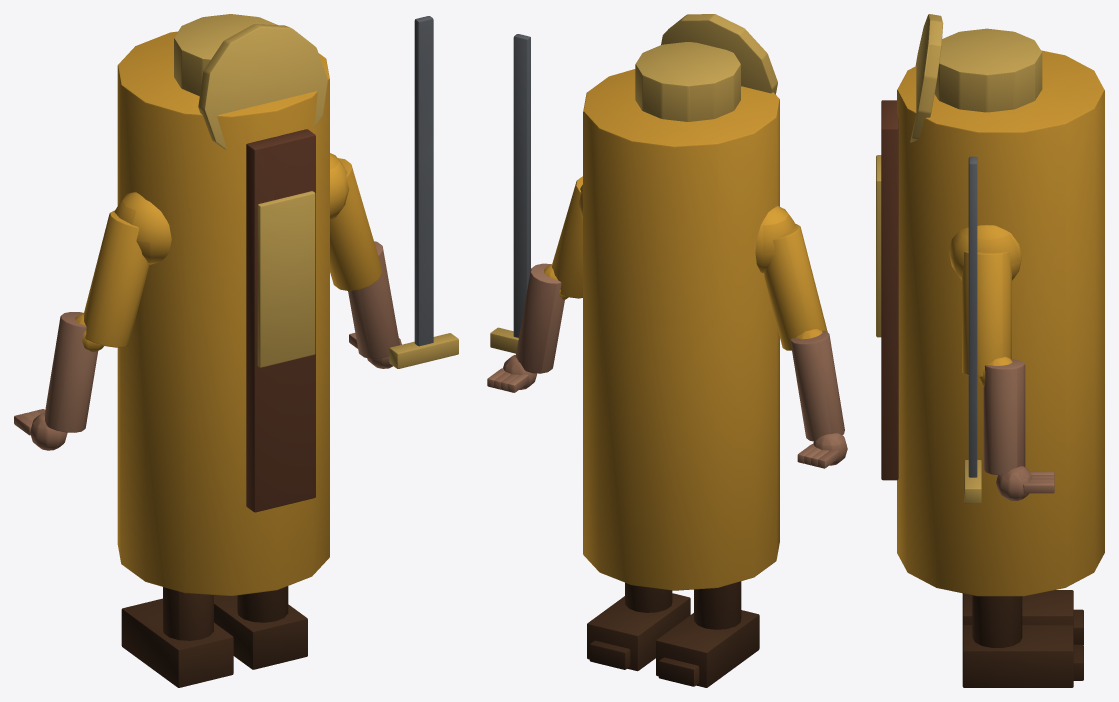
Rendered from unit_church_inquisitor.fbx.
3 renders of one model, left to right at view 1: azimuth 30°, elevation 25°; view 2: azimuth 150°, elevation 25°; view 3: azimuth 270°, elevation 25°, orthographic. The views are drawn at different scales.
Parts seen in each view (by area): view 1: unit_church_inquisitor; view 2: unit_church_inquisitor; view 3: unit_church_inquisitor.
Boxes of the visible parts, bbox=[...] form: unit_church_inquisitor: bbox=[14, 14, 458, 687]; unit_church_inquisitor: bbox=[487, 14, 847, 687]; unit_church_inquisitor: bbox=[876, 14, 1104, 687].
Bounding box in the file's own units: 1.29 × 2.03 × 0.66.
